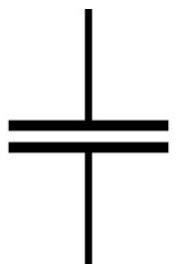Capacitor: (4, 81, 175, 186), (4, 81, 157, 186)
